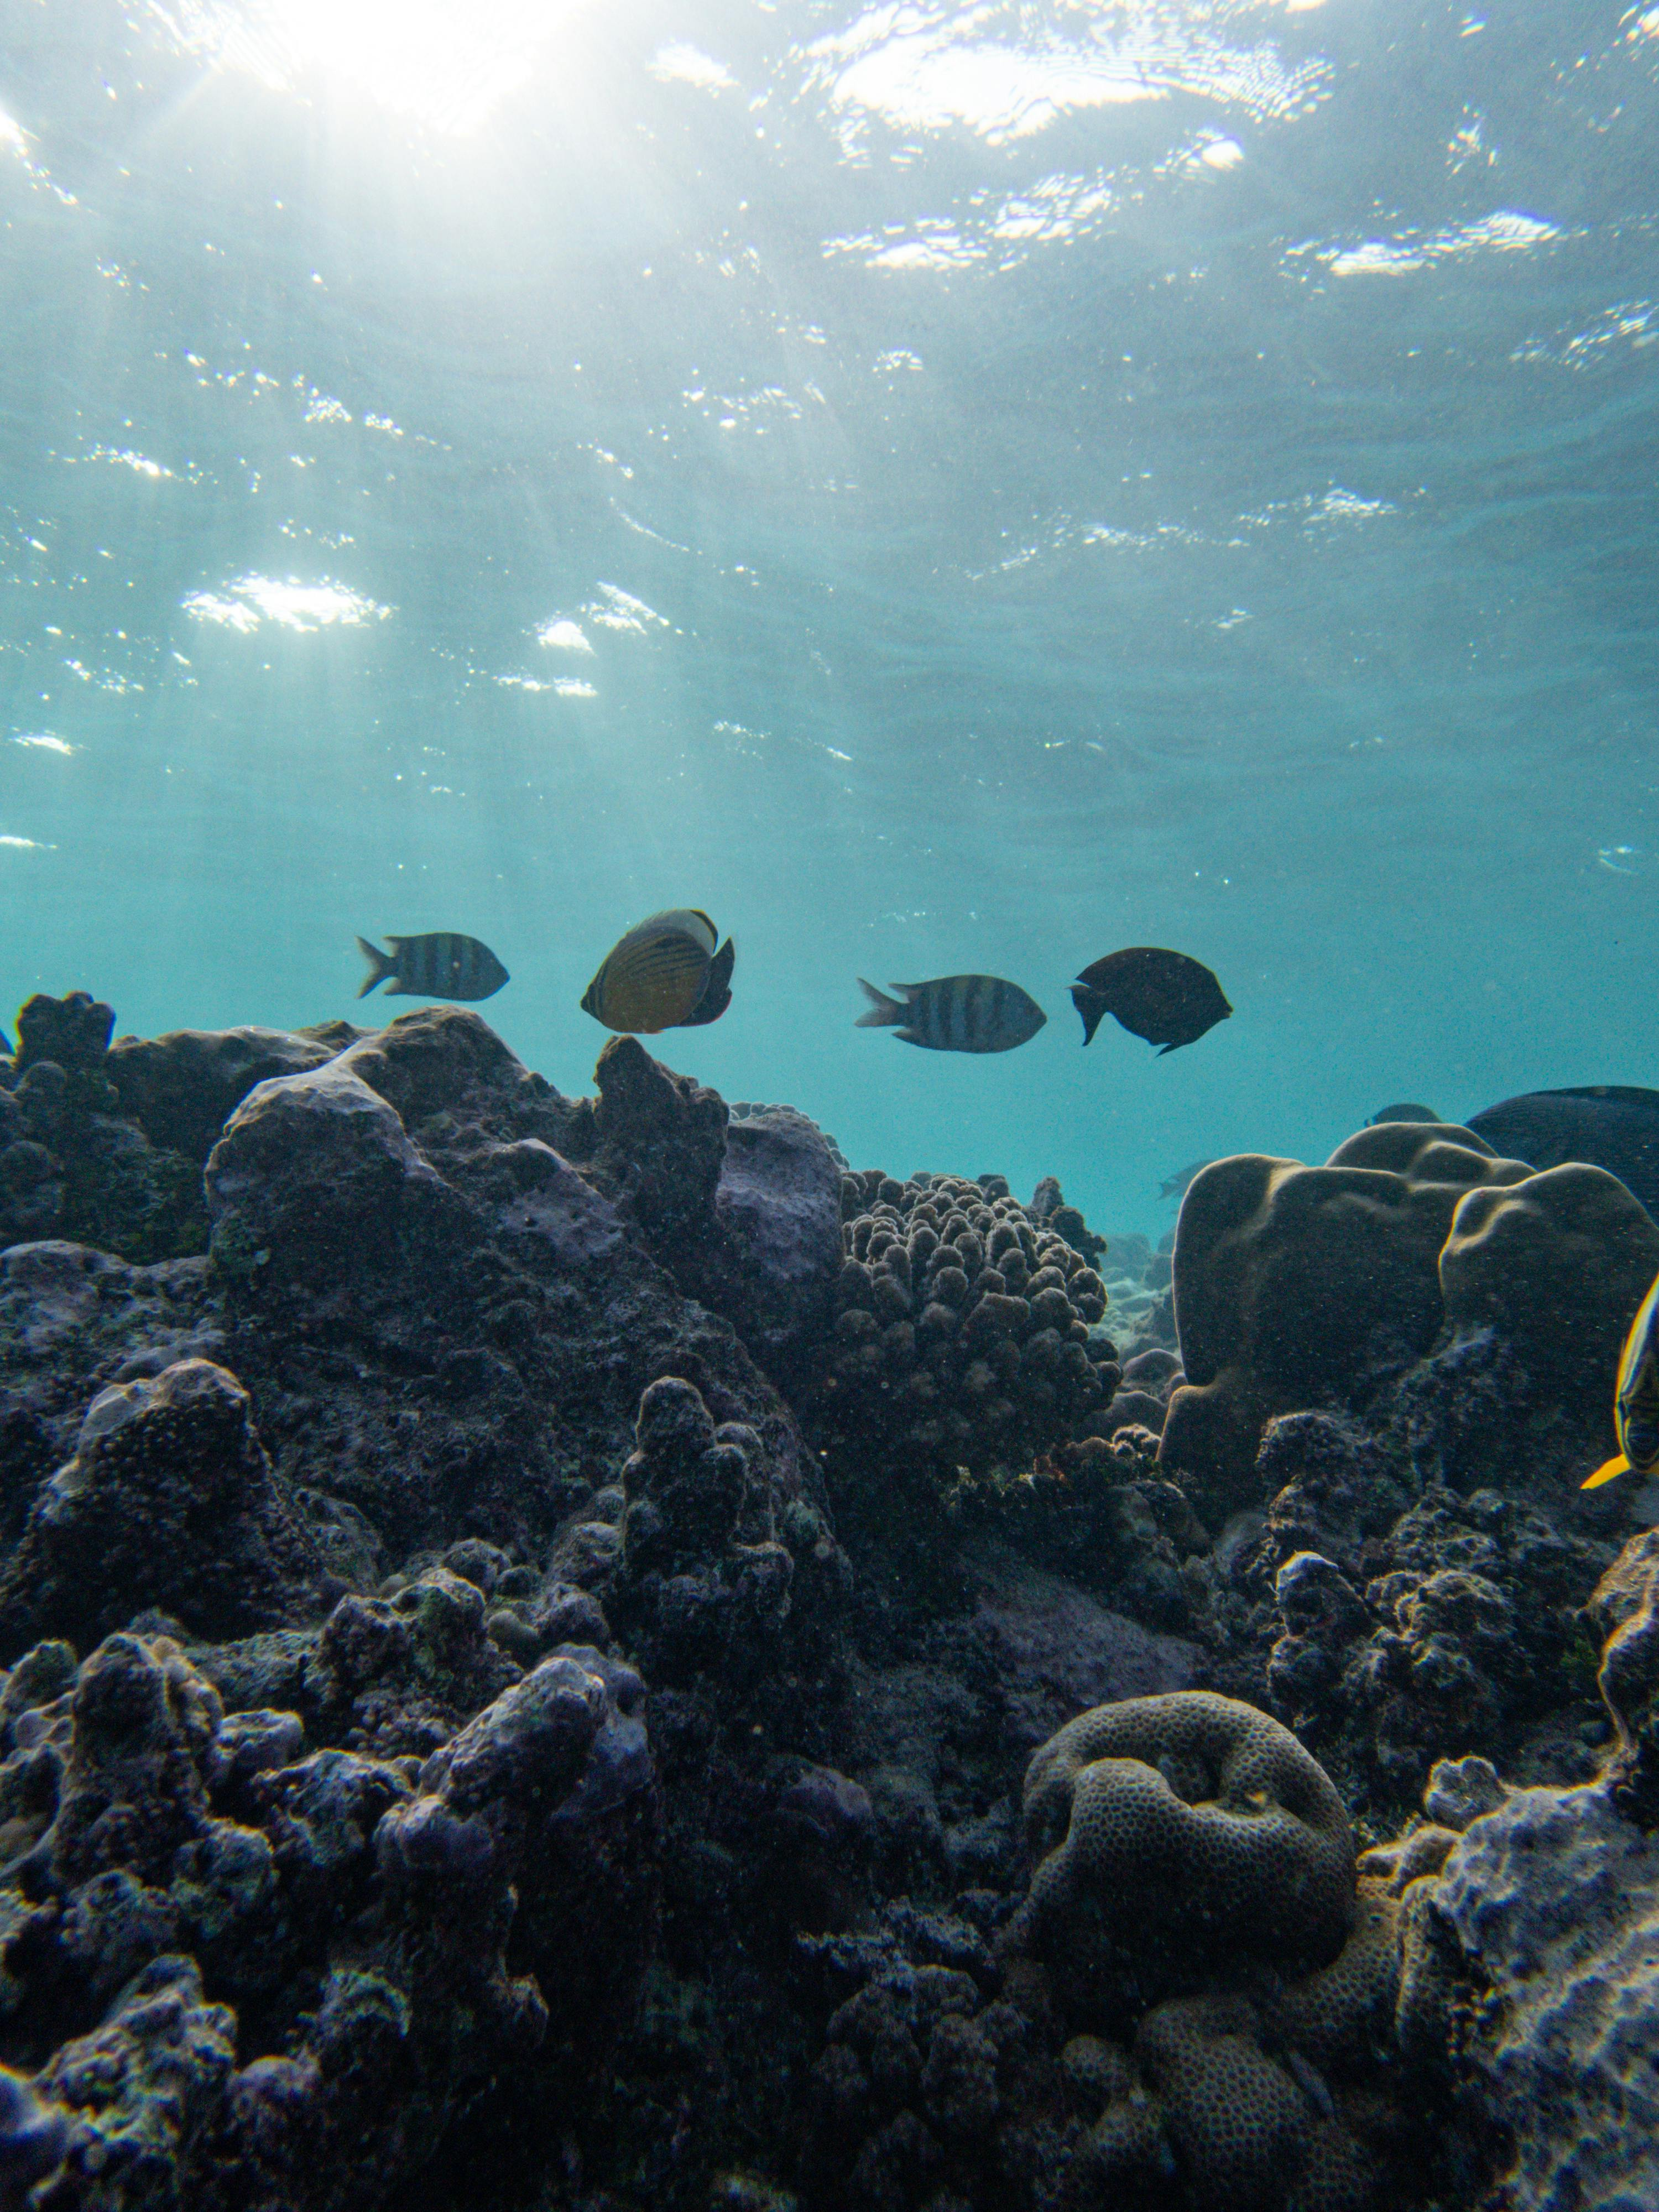fishRound: (575, 904, 744, 1038), (845, 967, 1051, 1062), (1063, 944, 1232, 1057), (1582, 1277, 1659, 1500), (349, 923, 511, 1001)
